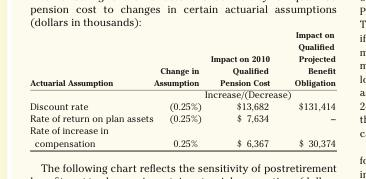table: (29, 29, 334, 148)
table column: (29, 29, 152, 148), (205, 29, 281, 148), (152, 29, 205, 148), (281, 29, 334, 148)
table column header: (29, 29, 334, 99)
table row: (29, 29, 334, 87), (29, 123, 334, 148), (29, 87, 334, 99), (29, 99, 334, 111), (29, 111, 334, 123)
table spanning cell: (29, 29, 152, 99), (152, 87, 334, 99)
